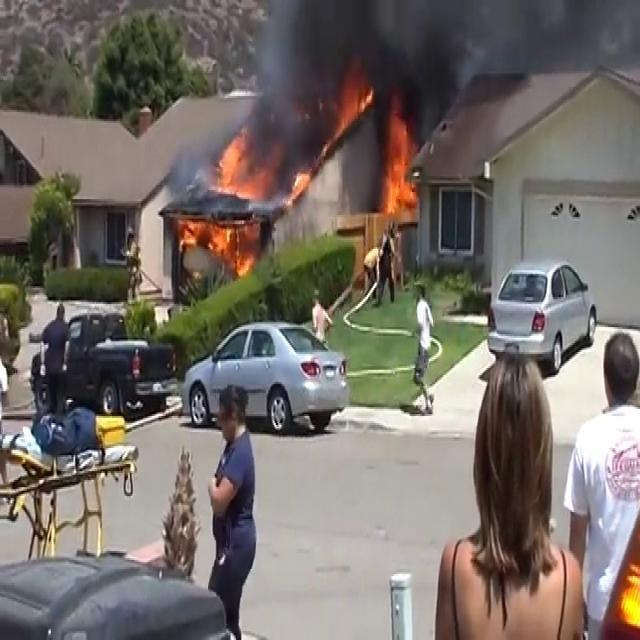Fire: (178, 135, 264, 277), (378, 109, 421, 227), (618, 546, 640, 636)
Smoke: (234, 1, 640, 136)
